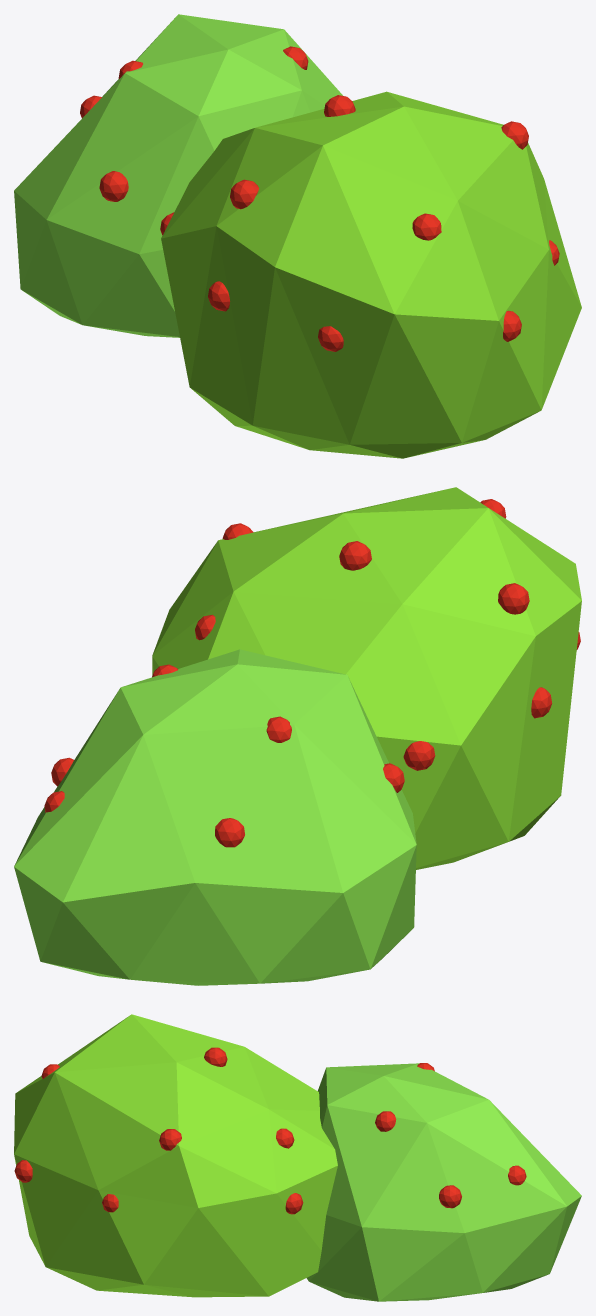
The model's file is Bushes.glb.
3 views of the same model, one above another, from view 1: azimuth 30°, elevation 25°; view 2: azimuth 150°, elevation 25°; view 3: azimuth 270°, elevation 25° (orthographic). The views are drawn at different scales.
Parts seen in each view (by area): view 1: Esfera geodésica.015; view 2: Esfera geodésica.015; view 3: Esfera geodésica.015.
Boxes of the visible parts, box(x1,y1,x2,y2) form: Esfera geodésica.015: box(14, 14, 581, 458); Esfera geodésica.015: box(14, 487, 581, 985); Esfera geodésica.015: box(14, 1014, 581, 1301).
Size of the model in its own units: 7.34 by 5.41 by 13.12.
